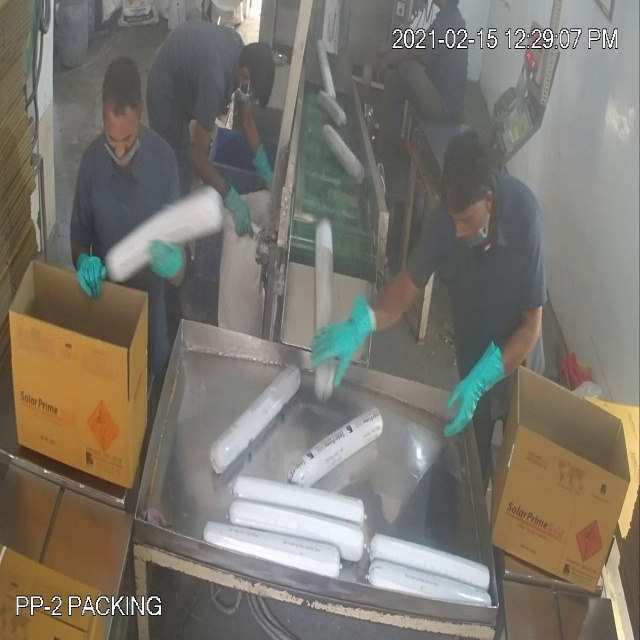Guantes: (438, 325, 509, 457), (304, 287, 385, 392), (67, 236, 120, 309), (222, 176, 266, 254), (140, 223, 192, 289), (249, 138, 281, 193)
Sin_guantes: (190, 119, 233, 190), (367, 33, 427, 82)
